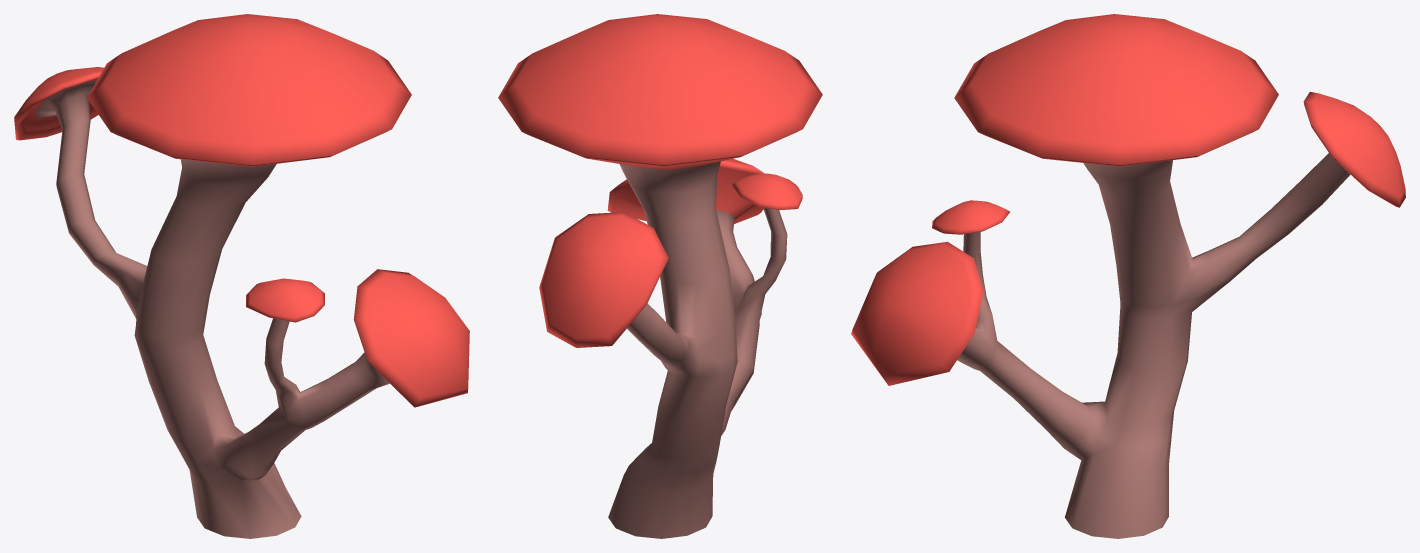
The model's file is Cogumelo01.fbx.
The picture shows the model from 3 angles, left to right: view 1: azimuth 30°, elevation 25°; view 2: azimuth 150°, elevation 25°; view 3: azimuth 270°, elevation 25°; orthographic projection.
Parts seen in each view (by area): view 1: Cogumelo02; view 2: Cogumelo02; view 3: Cogumelo02.
Boxes of the visible parts, x1,y1,x2,y2 form: Cogumelo02: [14, 14, 469, 538]; Cogumelo02: [498, 14, 822, 538]; Cogumelo02: [851, 14, 1405, 538].
Size of the model in its own units: 258 by 427 by 440.
